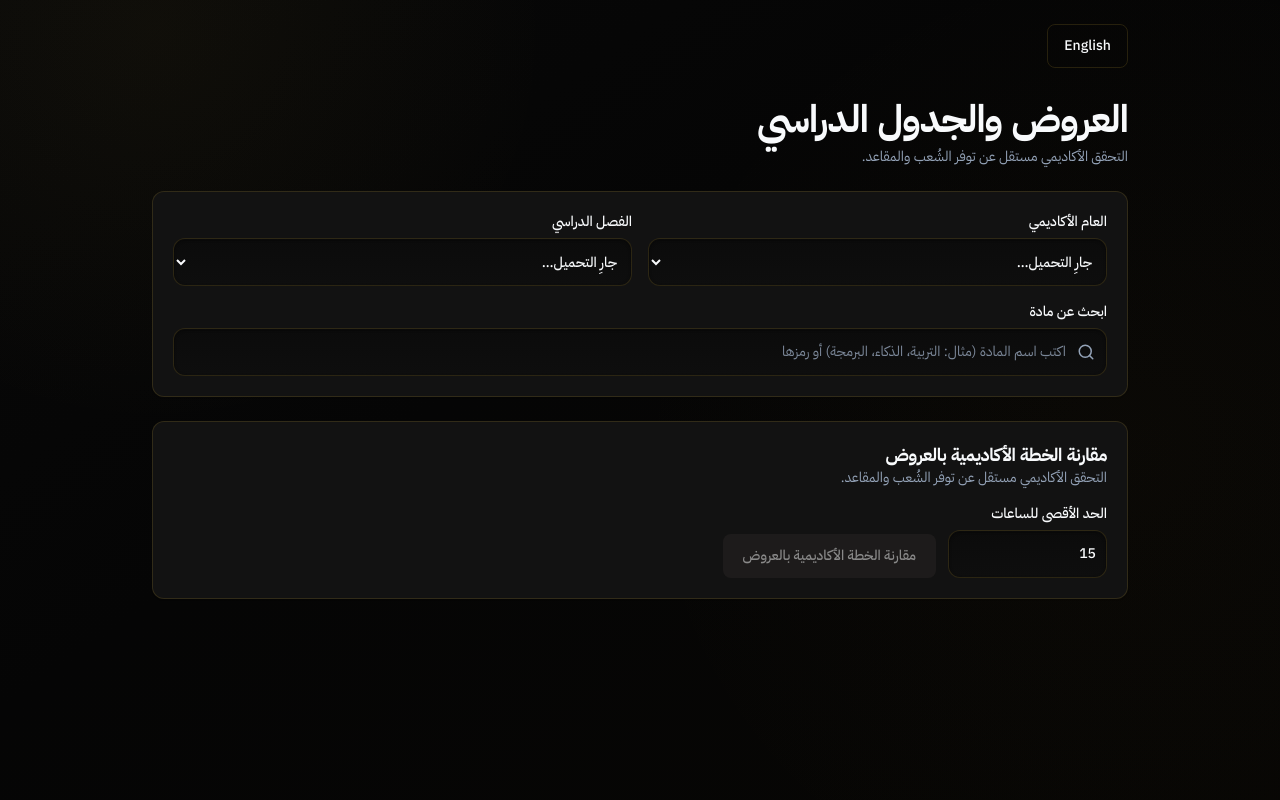
Test: course-name search matches partial Arabic words, fills full name on selection, and shows status badge
# Search by partial word in the middle: "برمجة" matches "مُقَدِّمة البرمجة"
In the dropdown labelled "ابحث عن مادة": coordinates (640, 352) x1=173 y1=328 x2=1107 y2=376, type "برمجة"
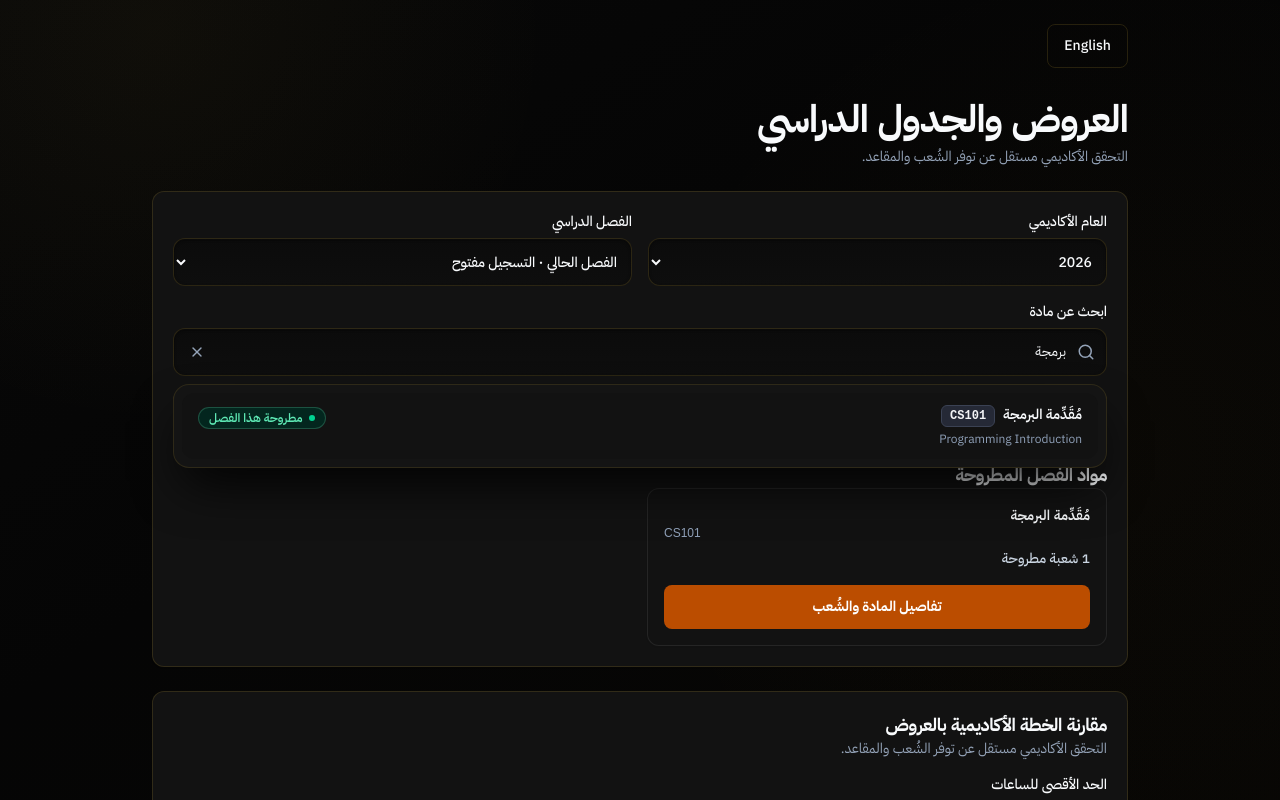
Check: the option "مُقَدِّمة البرمجة" is shown
Check: the option "مُقَدِّمة البرمجة" shows "مطروحة هذا الفصل"
# Click suggestion
Click the option "مُقَدِّمة البرمجة": coordinates (1043, 415) x1=182 y1=393 x2=1098 y2=459
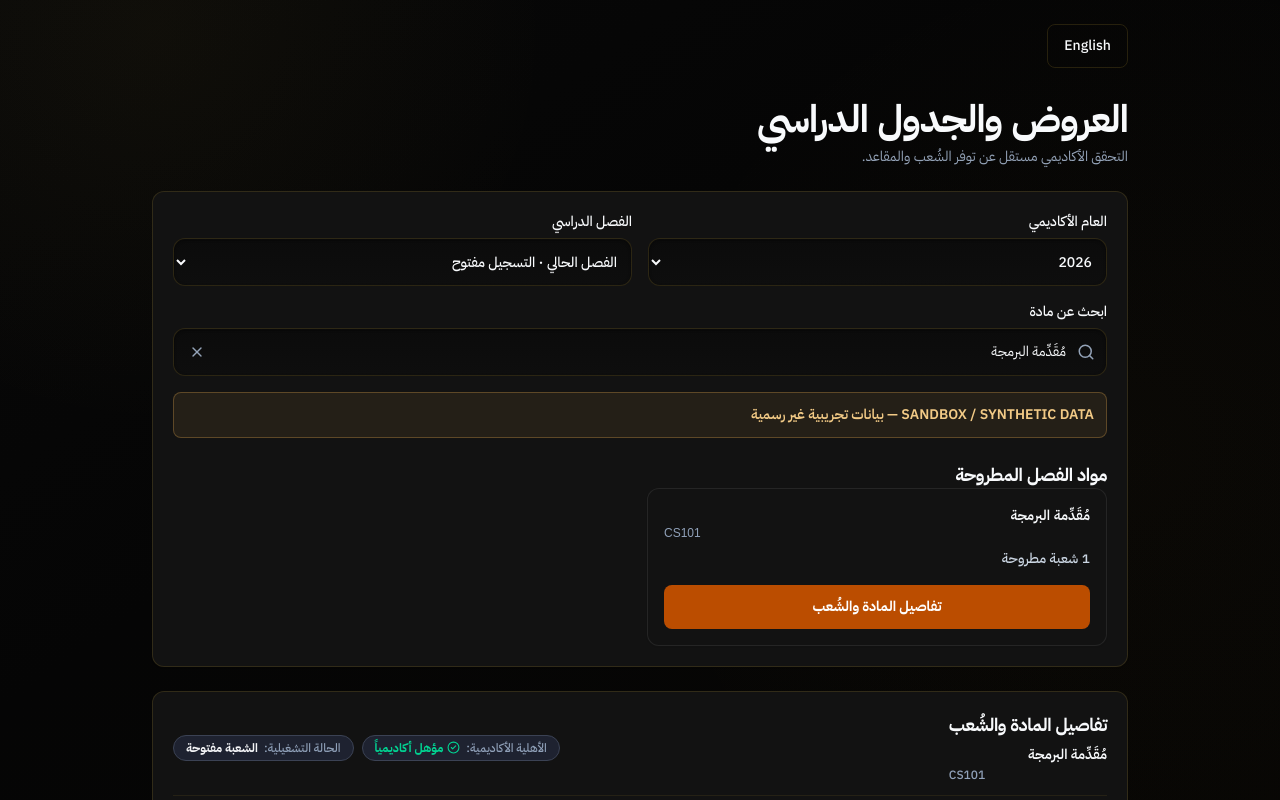
Check: the dropdown labelled "ابحث عن مادة" holds "مُقَدِّمة البرمجة", box x1=173 y1=328 x2=1107 y2=376
Check: the text "مؤهل أكاديمياً" is shown, box x1=375 y1=740 x2=460 y2=756
